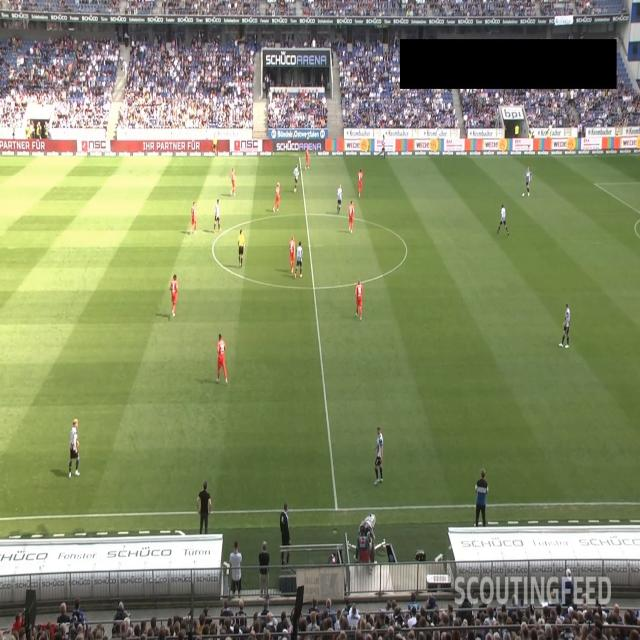ball: (522, 192, 525, 198)
